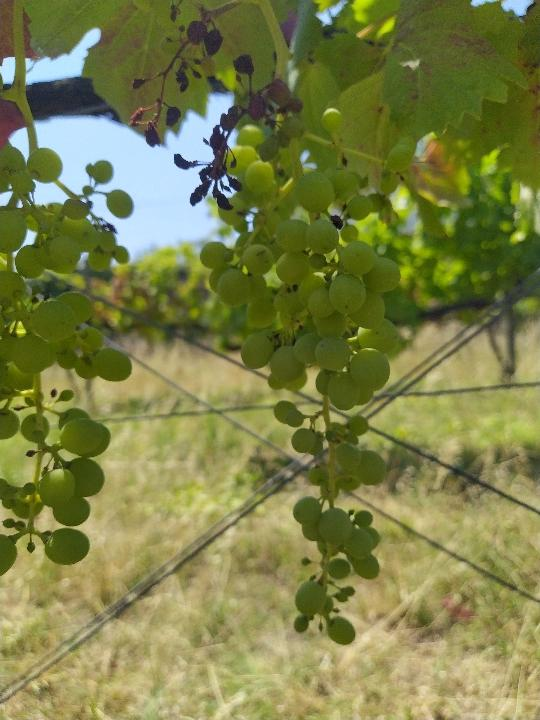grape: (194, 105, 424, 655), (122, 9, 308, 212)
